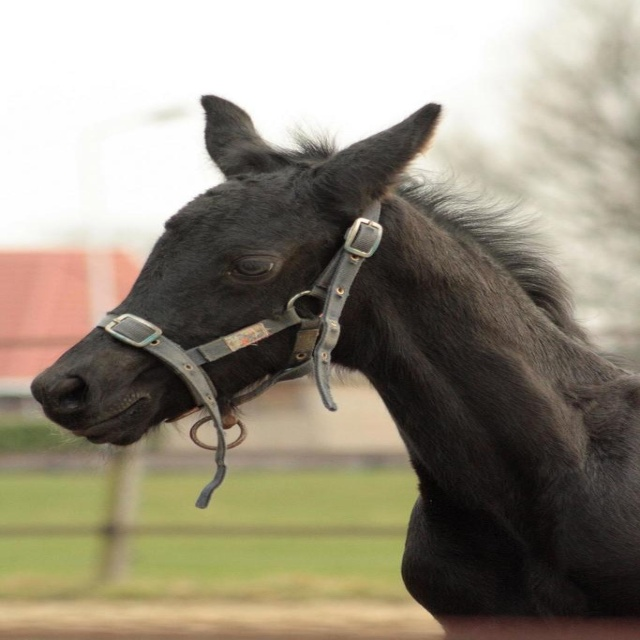Horse: (29, 94, 639, 638)
